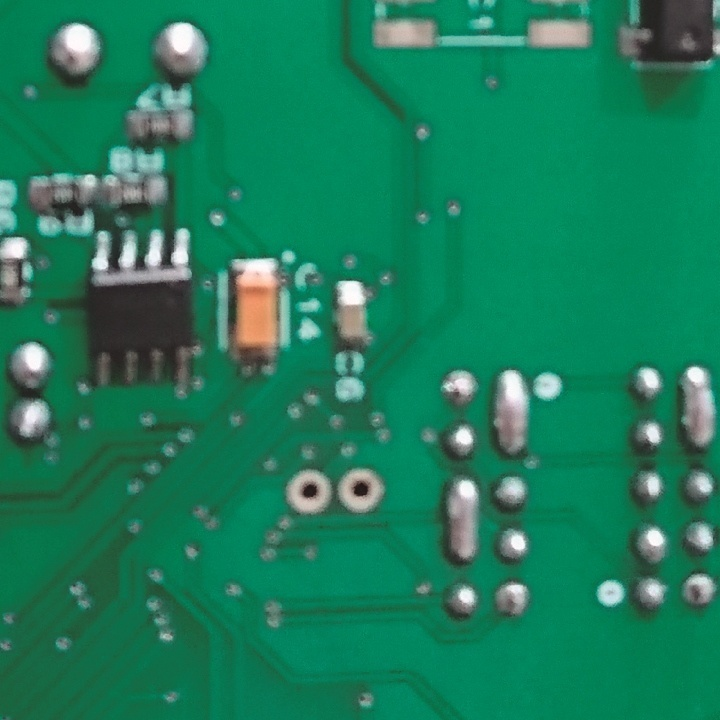F: (335, 465, 389, 521), (284, 466, 336, 520), (438, 362, 481, 411), (680, 566, 720, 612), (489, 579, 536, 615)
P: (444, 469, 488, 563), (676, 363, 720, 447), (492, 369, 533, 457)
